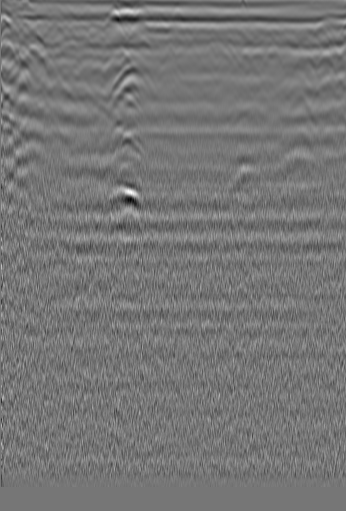가스: (98, 185, 143, 220)
상수: (15, 29, 47, 56)
오수: (292, 26, 325, 54)
우수: (155, 19, 192, 53)
